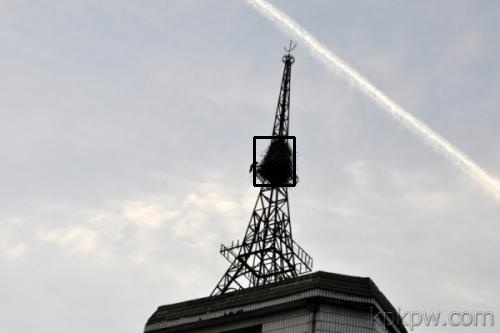bird-nest: (260, 139, 296, 178)
